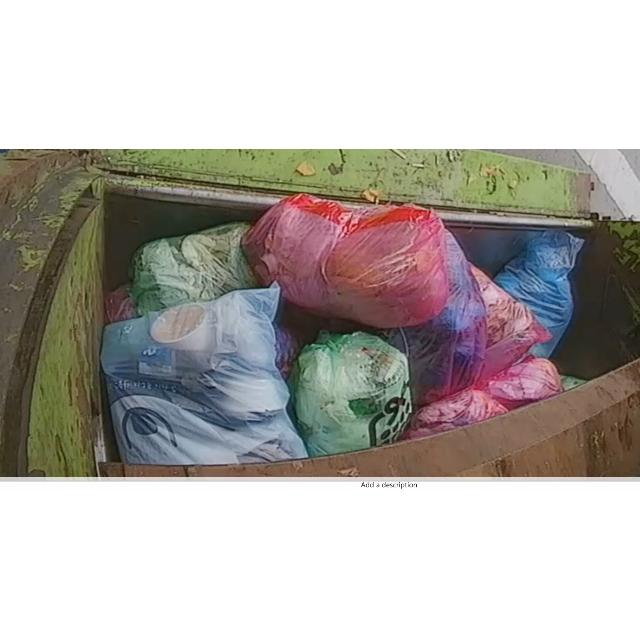general_trashbag: (290, 330, 412, 456), (130, 222, 259, 314)
other_trashbag: (101, 283, 308, 464), (242, 193, 449, 327), (386, 228, 488, 408), (494, 229, 584, 357), (471, 263, 551, 380), (401, 387, 509, 437), (480, 356, 562, 408)
